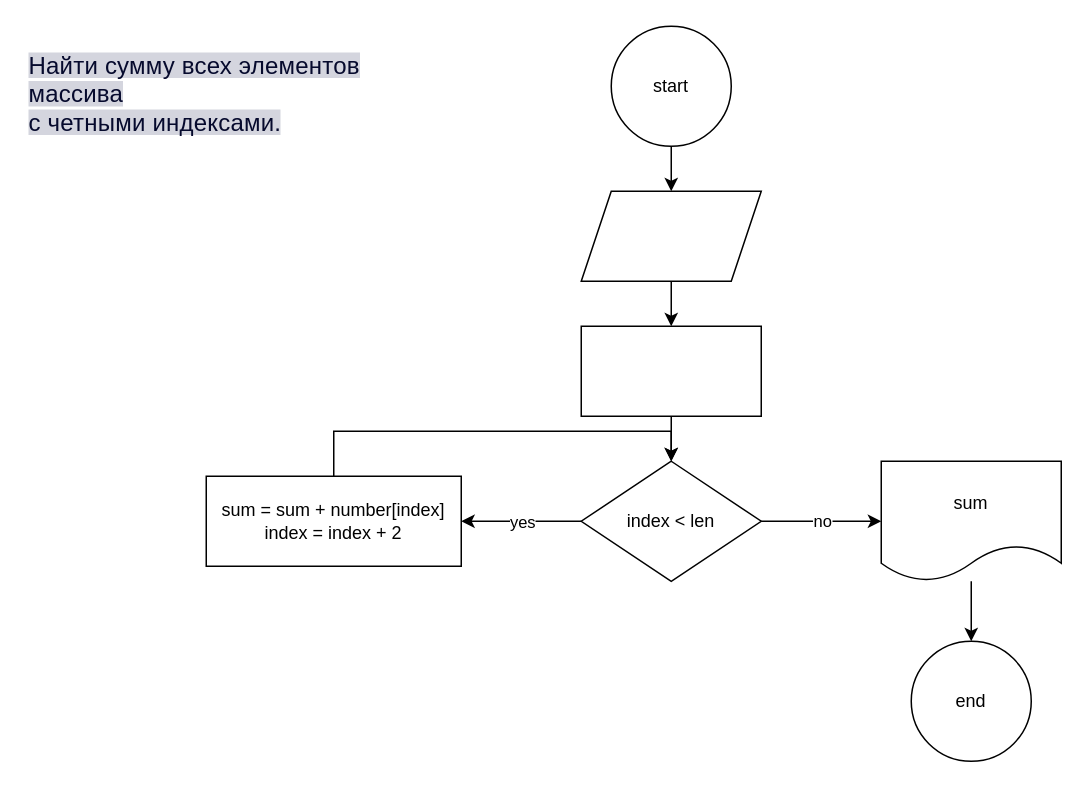
Image size: 1088x788. Some labels were removed from this diagram. Here are the shapes that lost their labels. From the top down, the centre of each, then its label:
At point (670, 235): "number".
At point (670, 370): "len = number.lenght sum = 0 index = 0".
